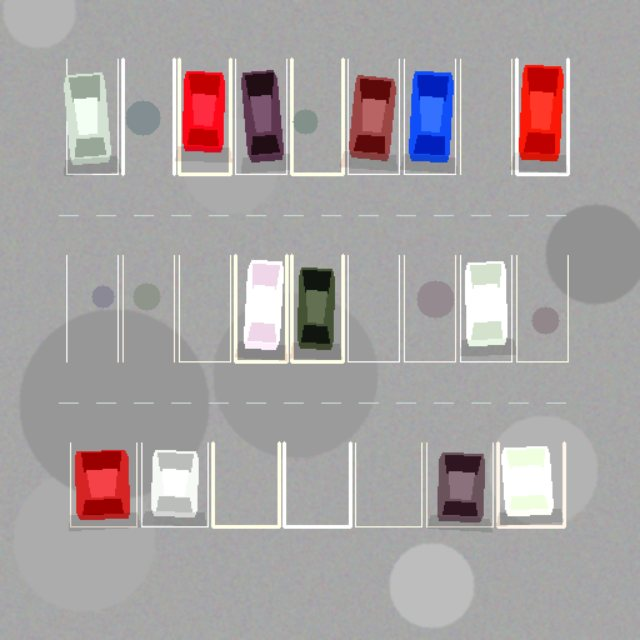space-empty: (122, 59, 174, 174), (291, 59, 342, 174), (460, 59, 511, 174), (212, 443, 279, 526), (66, 255, 118, 361), (122, 255, 174, 361), (516, 255, 568, 361), (284, 443, 350, 526), (355, 443, 421, 526), (179, 255, 230, 361), (348, 255, 399, 361), (404, 255, 455, 361)
space-occupied: (66, 59, 118, 174), (516, 59, 568, 174), (179, 59, 230, 174), (235, 59, 286, 174), (348, 59, 399, 174), (404, 59, 455, 174), (141, 443, 208, 526), (70, 443, 136, 526), (426, 443, 492, 526), (498, 443, 564, 526), (235, 255, 286, 361), (291, 255, 342, 361), (460, 255, 511, 361)
